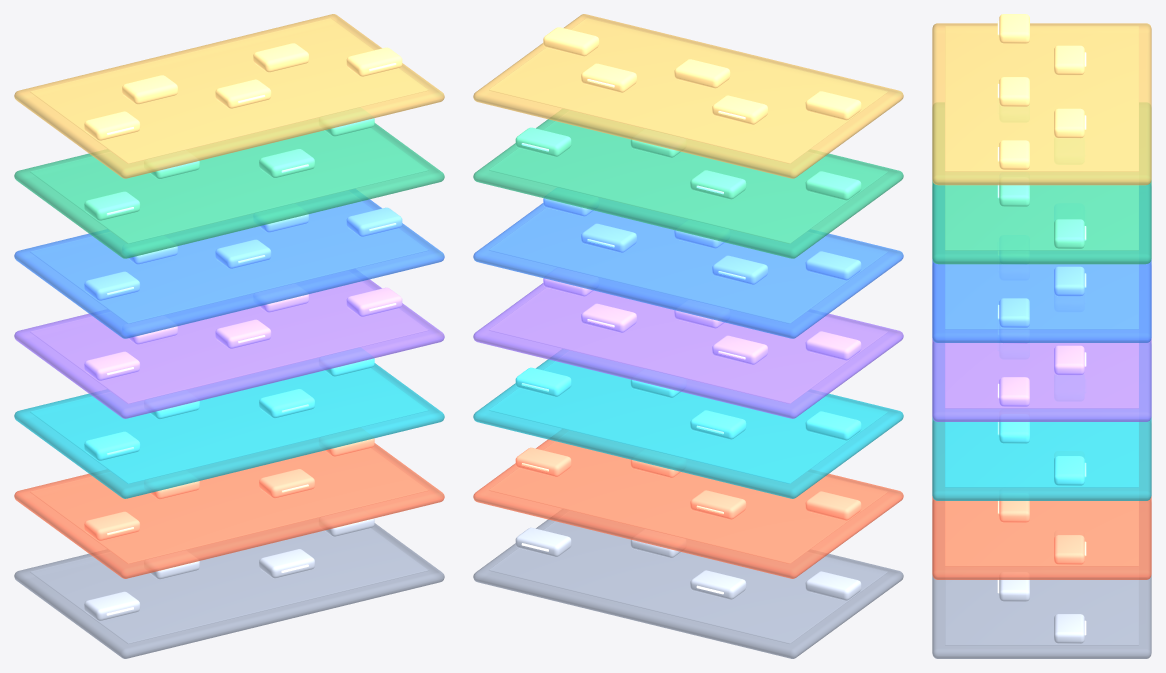
File: layers.glb
3 views of the same model, side by side, from view 1: azimuth 30°, elevation 25°; view 2: azimuth 150°, elevation 25°; view 3: azimuth 270°, elevation 25° (orthographic).
Visible parts, largest first — view 1: layer_people, layer_edge, layer_ai, layer_cloud, layer_data, layer_domain, layer_api, panel_people, panel_edge, panel_data, panel_ai, panel_cloud (+33 smaller); view 2: layer_people, layer_edge, layer_data, layer_cloud, layer_ai, layer_api, layer_domain, panel_people, panel_edge, panel_data, panel_ai, panel_cloud (+33 smaller); view 3: layer_people, panel_people, layer_edge, layer_ai, layer_cloud, layer_data, layer_api, layer_domain, panel_ai, panel_cloud, panel_edge, panel_data (+21 smaller).
Boxes of the visible parts, <box> form: layer_people: <box>14,14,444,178</box>; layer_edge: <box>14,123,444,258</box>; layer_ai: <box>14,443,444,578</box>; layer_cloud: <box>14,523,444,658</box>; layer_data: <box>14,363,444,498</box>; layer_domain: <box>14,269,444,418</box>; layer_api: <box>14,189,444,338</box>; panel_people: <box>30,18,428,163</box>; panel_edge: <box>30,128,428,243</box>; panel_data: <box>30,368,428,483</box>; panel_ai: <box>30,448,428,563</box>; panel_cloud: <box>30,528,428,643</box>; layer_people: <box>473,14,903,178</box>; layer_edge: <box>473,109,903,258</box>; layer_data: <box>473,349,903,498</box>; layer_cloud: <box>473,509,903,658</box>; layer_ai: <box>473,429,903,578</box>; layer_api: <box>473,203,903,338</box>; layer_domain: <box>473,283,903,418</box>; panel_people: <box>489,18,887,163</box>; panel_edge: <box>489,121,887,243</box>; panel_data: <box>489,361,887,483</box>; panel_ai: <box>489,441,887,563</box>; panel_cloud: <box>489,521,887,643</box>; layer_people: <box>932,23,1151,185</box>; panel_people: <box>945,25,1138,171</box>; layer_edge: <box>932,103,1151,264</box>; layer_ai: <box>932,421,1151,579</box>; layer_cloud: <box>932,500,1151,658</box>; layer_data: <box>932,342,1151,500</box>; layer_api: <box>932,184,1151,342</box>; layer_domain: <box>932,263,1151,421</box>; panel_ai: <box>945,501,1138,566</box>; panel_cloud: <box>945,580,1138,645</box>; panel_edge: <box>945,185,1138,250</box>; panel_data: <box>945,422,1138,487</box>.
Bounding box in the file's own units: 7.4 × 11.01 × 4.4.
